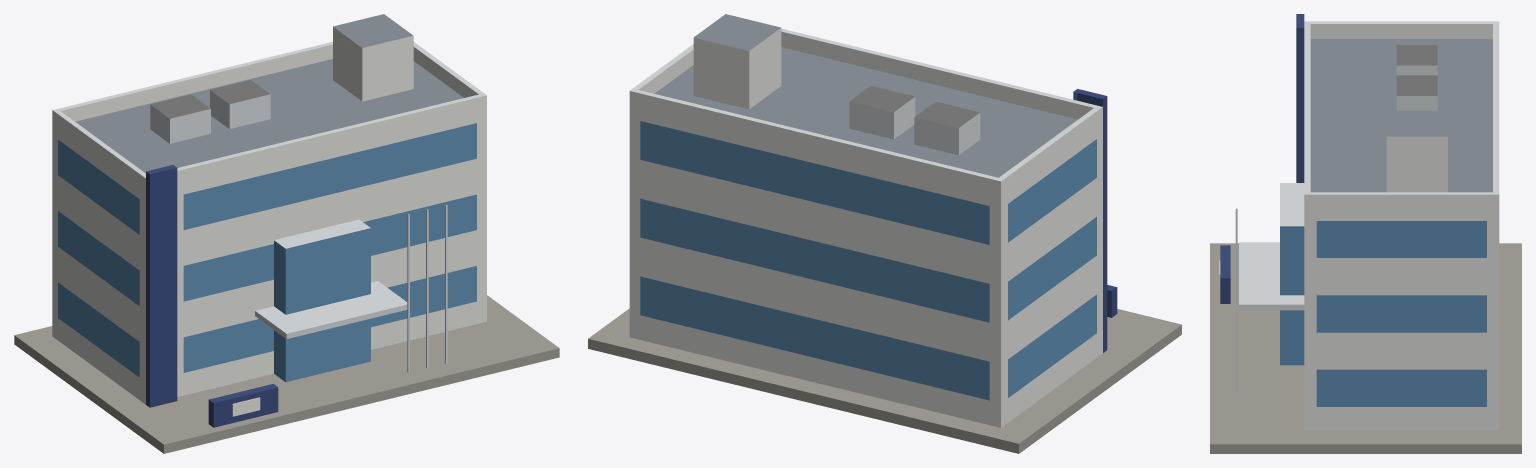
File: mashup-admin-top-prebuilt.fbx
3 views of the same model, side by side, from view 1: azimuth 30°, elevation 25°; view 2: azimuth 150°, elevation 25°; view 3: azimuth 270°, elevation 25° (orthographic). The views are drawn at different scales.
Parts seen in each view (by area): view 1: a1056/0/mashup-admin-top-prebuilt; view 2: a1056/0/mashup-admin-top-prebuilt; view 3: a1056/0/mashup-admin-top-prebuilt.
Boxes of the visible parts, <box> form: a1056/0/mashup-admin-top-prebuilt: <box>14,14,559,453</box>; a1056/0/mashup-admin-top-prebuilt: <box>588,14,1181,453</box>; a1056/0/mashup-admin-top-prebuilt: <box>1210,14,1521,453</box>.
Size of the model in its own units: 23.2 by 15.4 by 15.2.
